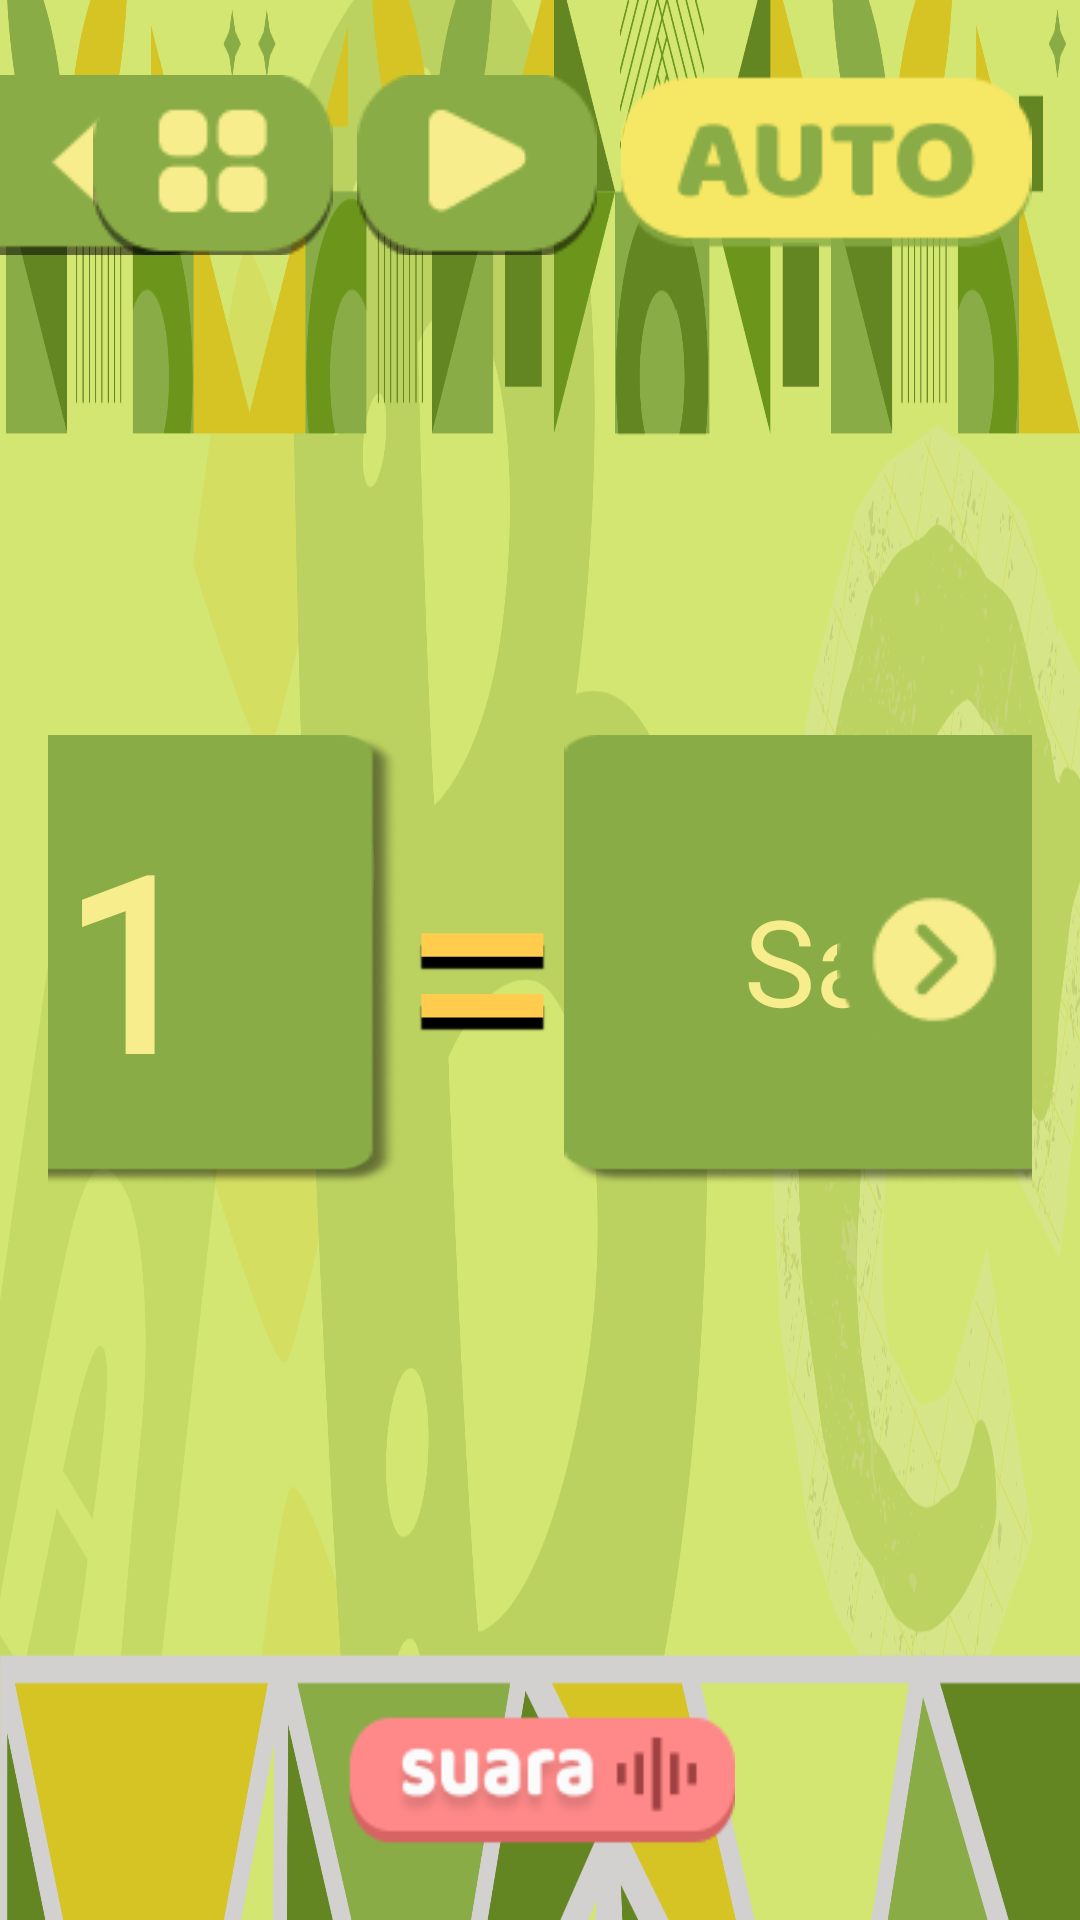

Where to tap for icons on this 1080*1920 app screen, as (x=x, y=y):
Kembali ke pilihan huruf: (x=213, y=165)
right: (x=934, y=959)
